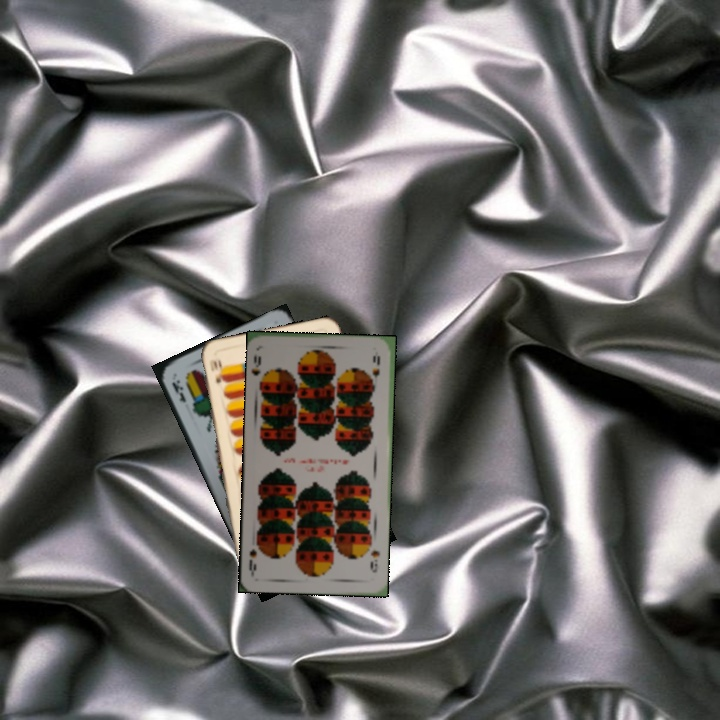E10: (205, 355, 224, 386)
EK: (168, 376, 189, 405)
S9: (366, 546, 382, 575), (249, 351, 264, 378)
